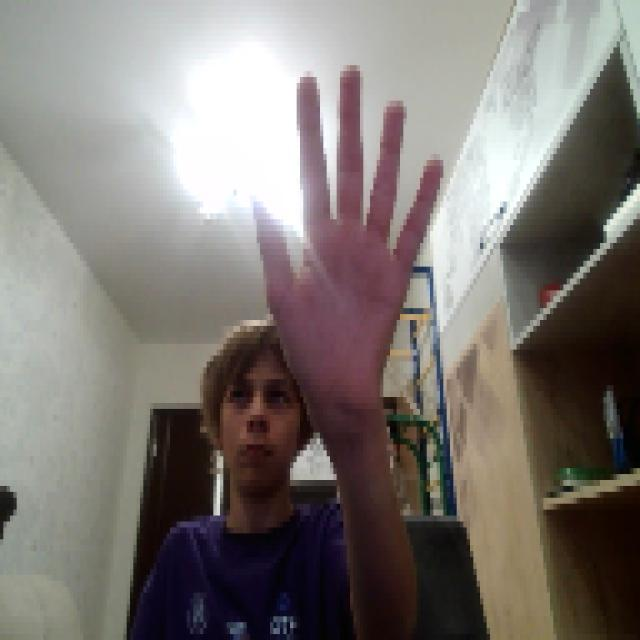hand: (250, 53, 440, 421)
